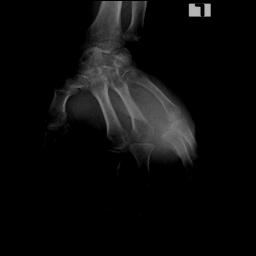cancer: (127, 81, 171, 131)
